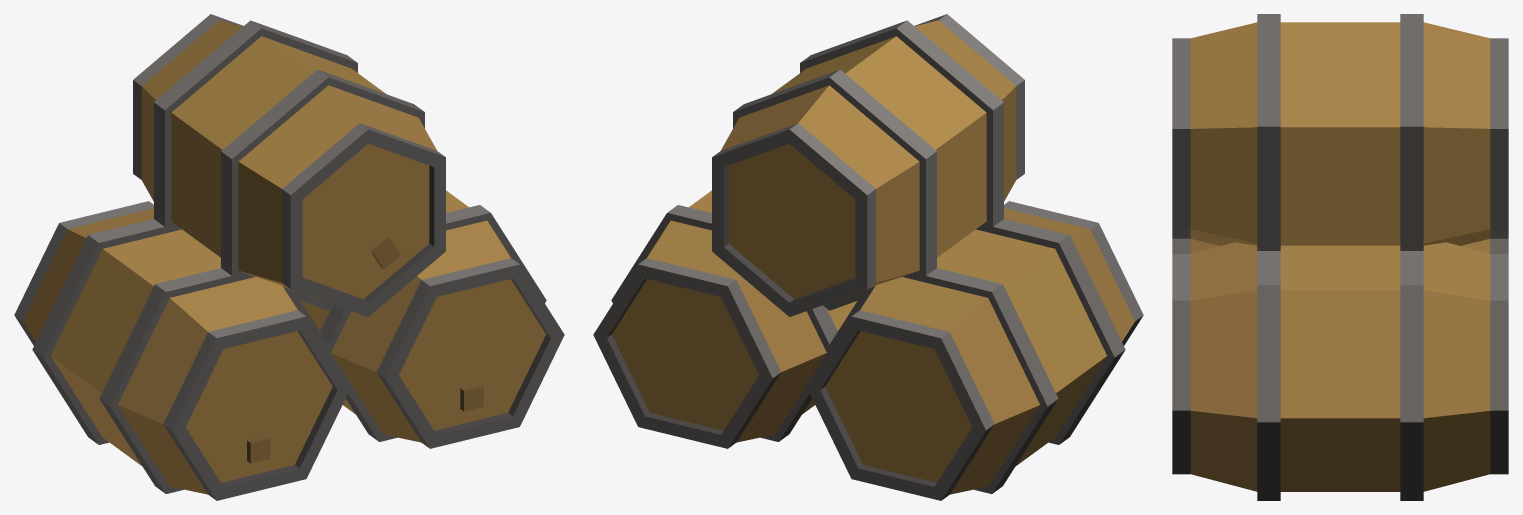
The model's file is BarrelStack.gltf.
3 views of the same model, side by side, from view 1: azimuth 30°, elevation 25°; view 2: azimuth 150°, elevation 25°; view 3: azimuth 270°, elevation 25° (orthographic). The views are drawn at different scales.
Parts seen in each view (by area): view 1: SF_Prop_BarrelStack_01; view 2: SF_Prop_BarrelStack_01; view 3: SF_Prop_BarrelStack_01.
Boxes of the visible parts, box(x1,y1,x2,y2) form: SF_Prop_BarrelStack_01: box(14, 14, 564, 500); SF_Prop_BarrelStack_01: box(593, 14, 1143, 500); SF_Prop_BarrelStack_01: box(1172, 14, 1508, 500).
Size of the model in its own units: 0.0271 by 0.0224 by 0.017.
Materials: 1 (1 with a texture image).
